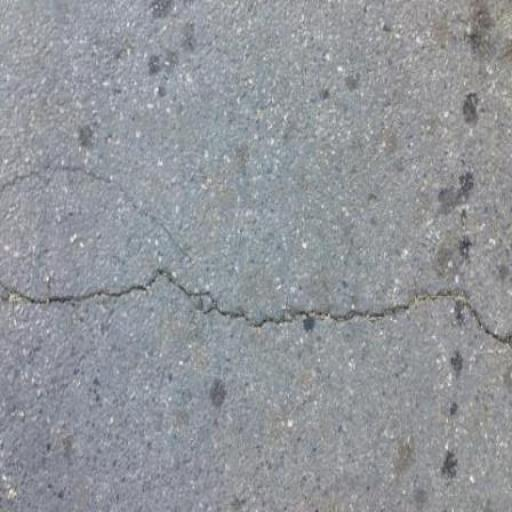spalling: (6, 248, 507, 366), (8, 142, 209, 258)
